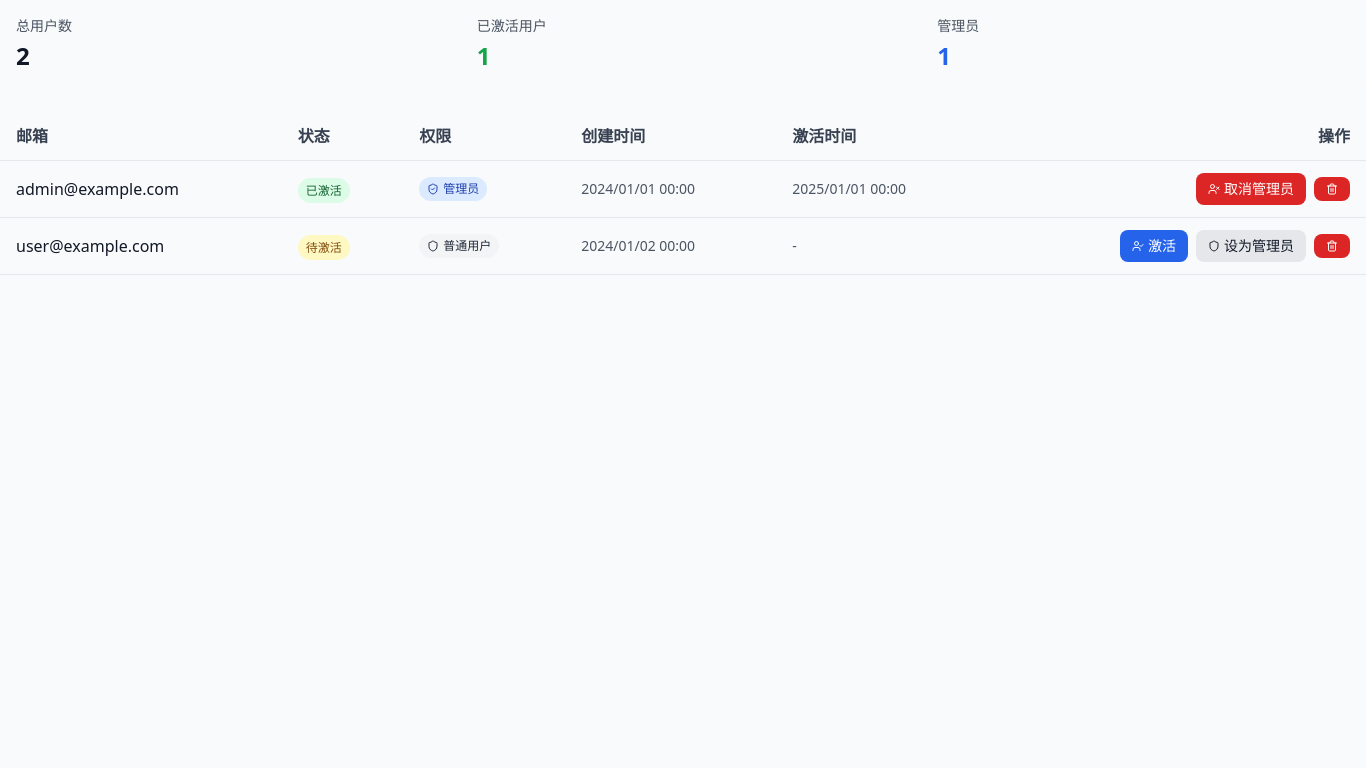
Scenario: UserManagementTab › Delete User › 削除確認ダイアログが表示される
This screenshot has width=1366, height=768.
Expected: the text "admin@example.com" is shown, [0,160,282,218]
Expected: the button "取消管理员" is shown, [1196,173,1306,205]
Click the last danger button (delete button)
What coordinates should you click on to do the following:
click the button without text in the row of "user@example.com"
I would click on:
 (1332, 246)
Its box is [1314,234,1350,258].
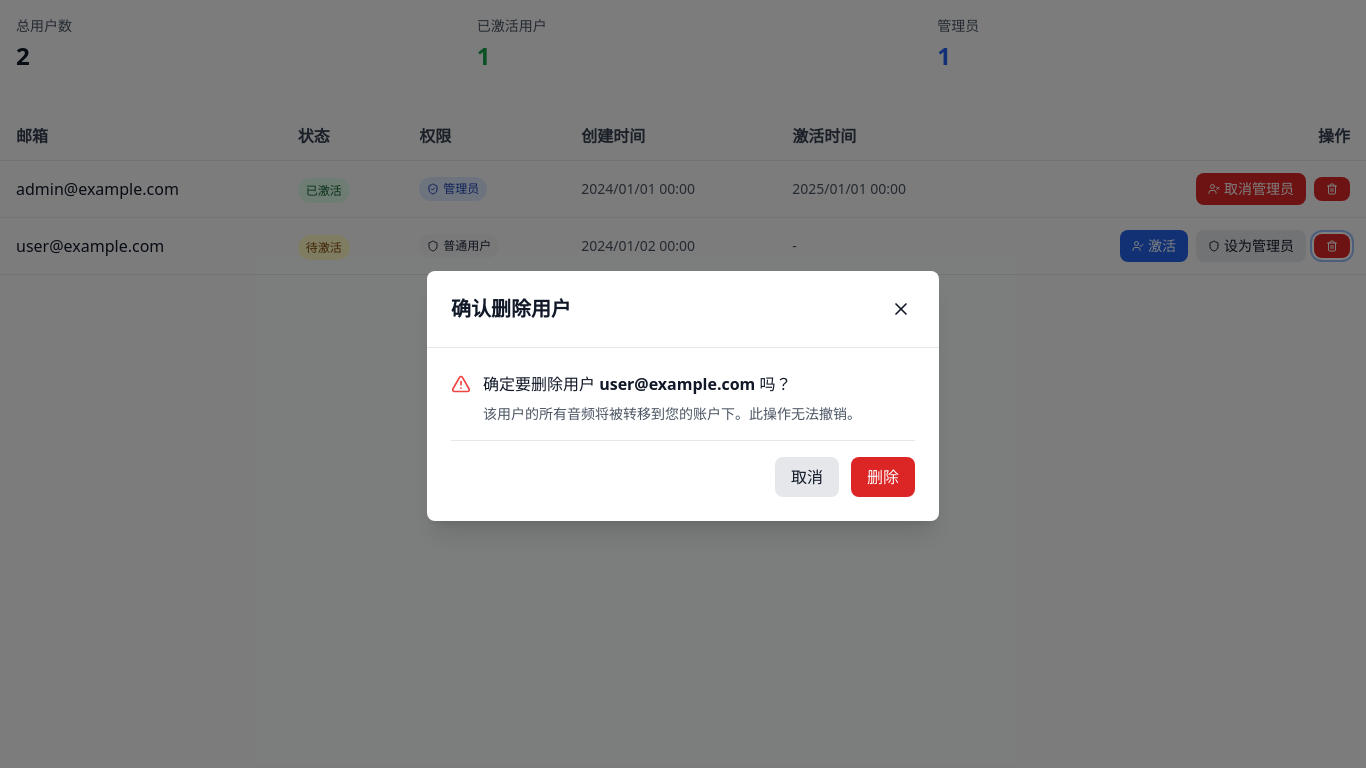
Now the heading "确认删除用户" is shown, box [451,295,571,323]
